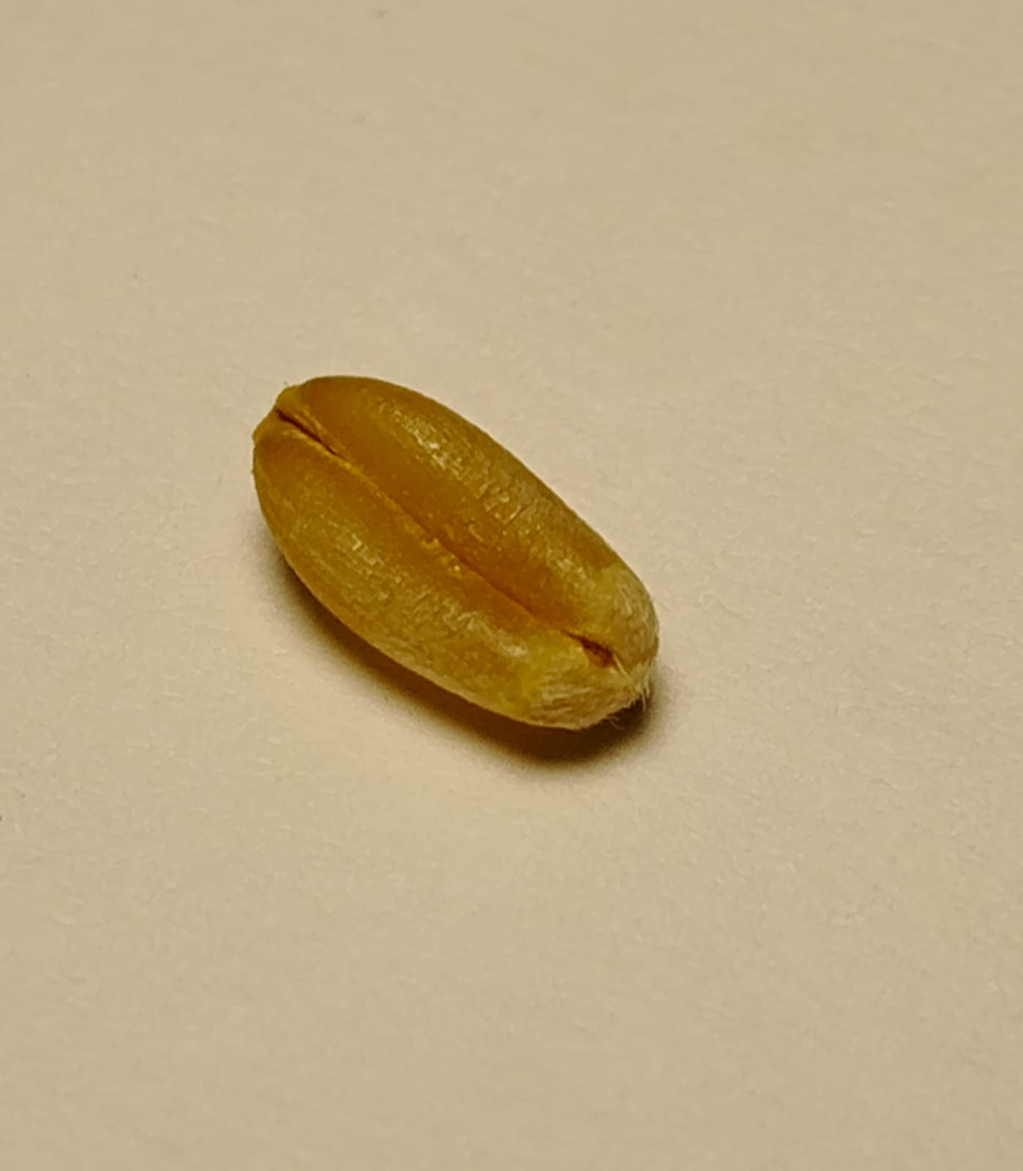healthy: (255, 376, 658, 728)
